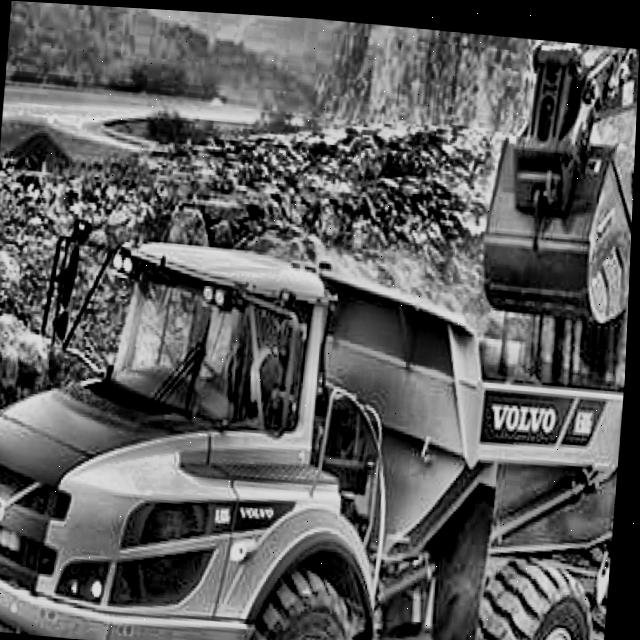dump_truck: (0, 200, 633, 640)
excavator: (452, 28, 640, 593)
